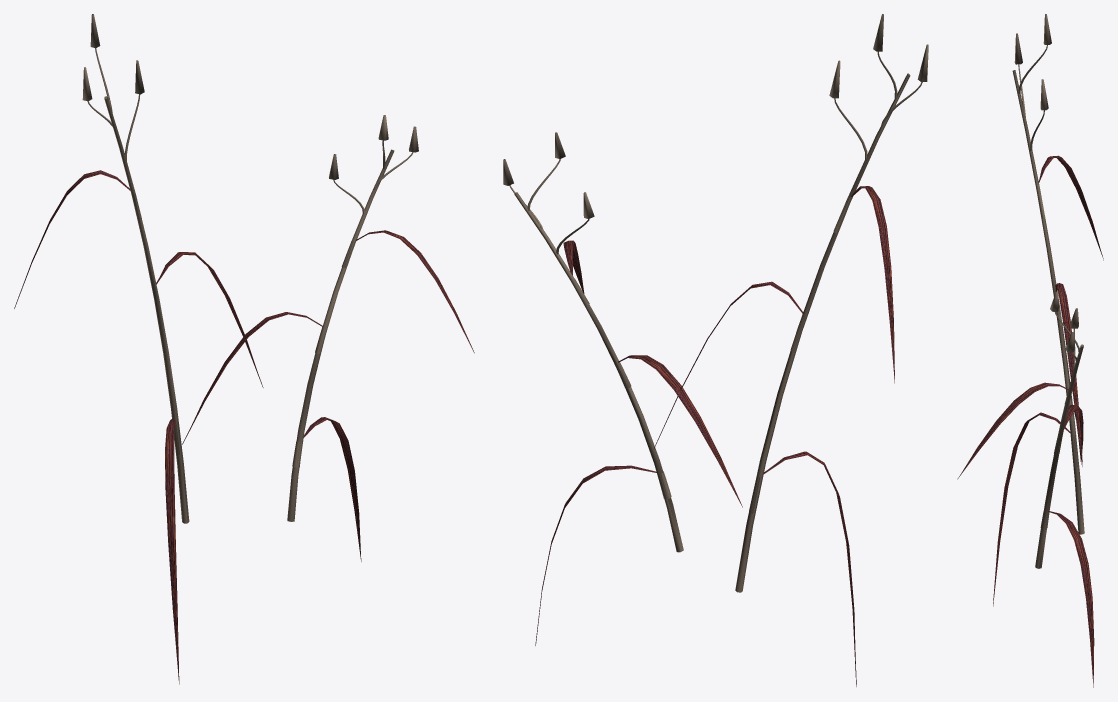
Rendered from dryshoots_09.glb.
3 renders of one model, left to right at view 1: azimuth 30°, elevation 25°; view 2: azimuth 150°, elevation 25°; view 3: azimuth 270°, elevation 25°, orthographic. The views are drawn at different scales.
Visible parts, largest first — view 1: export; view 2: export; view 3: export.
Boxes of the visible parts, x1=… form: export: x1=14, y1=14, x2=474, y2=684; export: x1=503, y1=14, x2=928, y2=686; export: x1=957, y1=14, x2=1103, y2=687.
Bounding box in the file's own units: 0.9524 × 1.58 × 0.3682.
2 materials, 2 textured.
